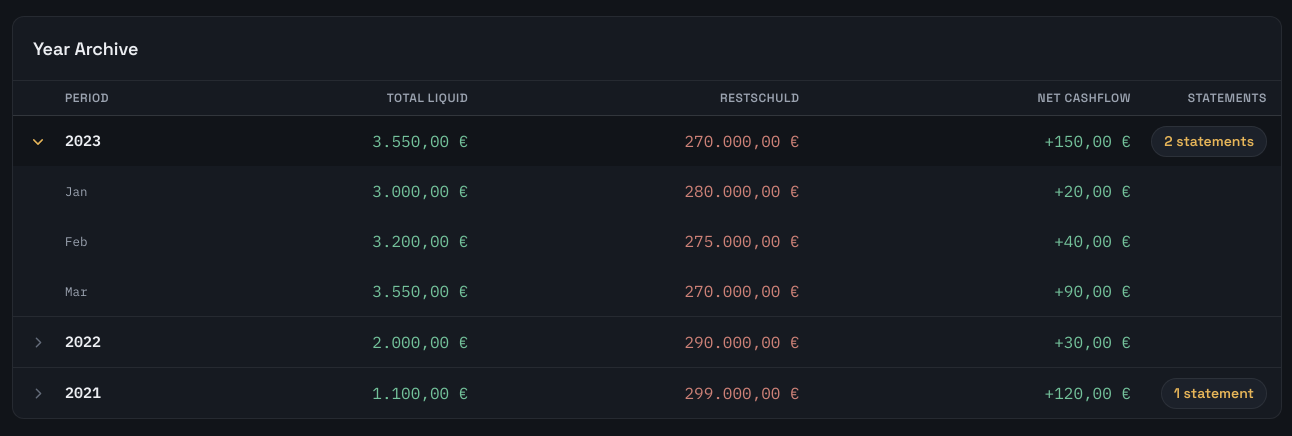
Test: YearArchive — expand / collapse interaction › expands a collapsed year when its header is clicked
Click the button "2021 1.100,00 € 299.000,00 € +120,00 €": (83, 392) [13,368,1281,418]
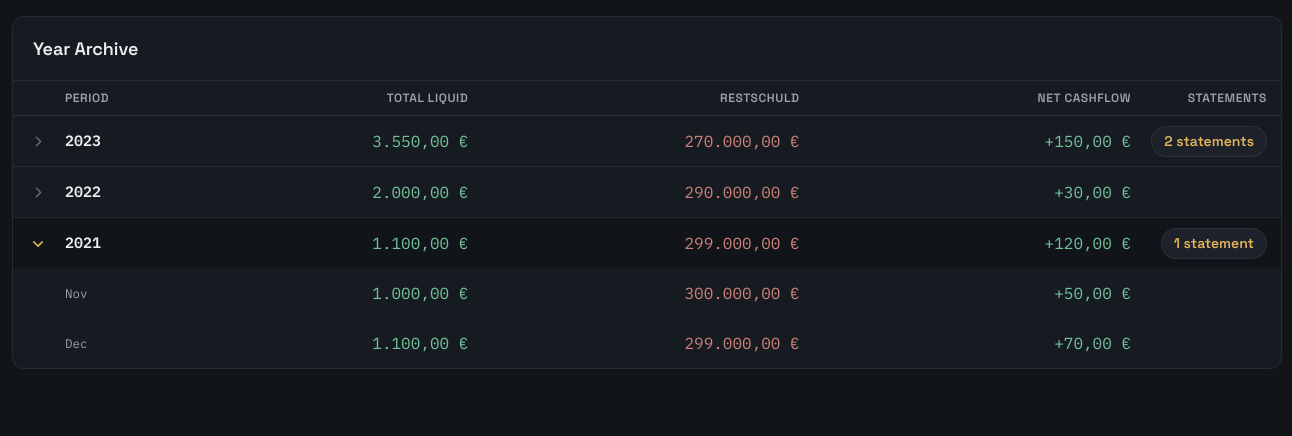
Check: the button "2021 1.100,00 € 299.000,00 € +120,00 €" is expanded, box [13,218,1281,268]
Check: the link "Dec 1.100,00 € 299.000,00 € +70,00 €" is shown, box [65,333,1131,353]
